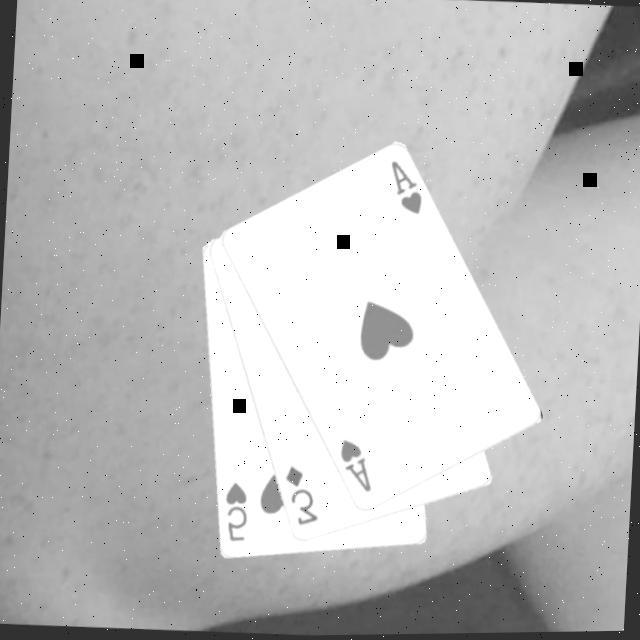3D: (280, 464, 325, 534)
5H: (220, 482, 252, 548)
AH: (385, 160, 428, 223), (335, 438, 378, 499)
